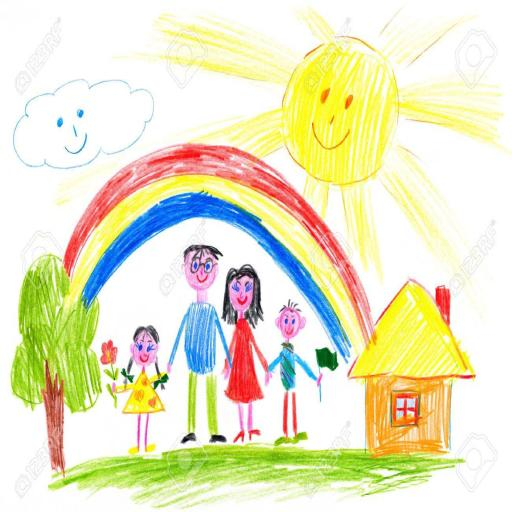person: (169, 238, 223, 466), (102, 316, 167, 464), (220, 260, 268, 456), (268, 298, 316, 456)
